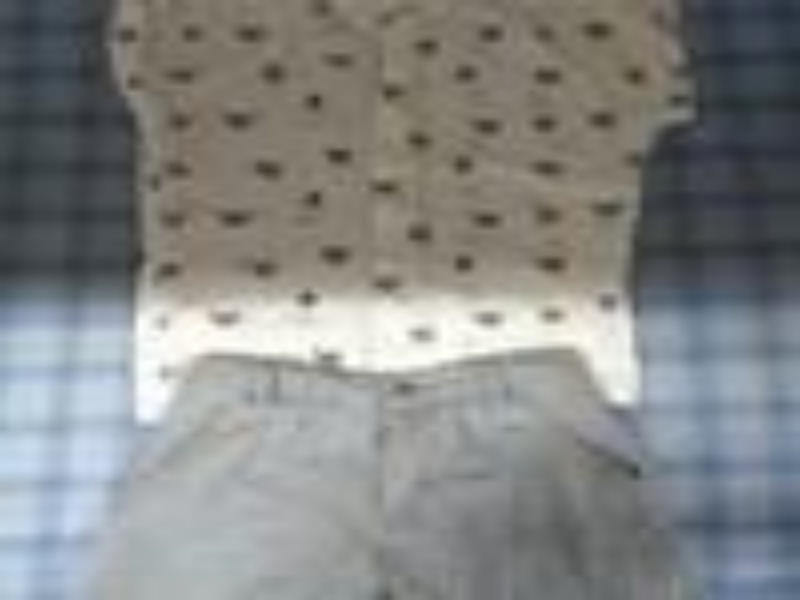short_sleeved_shirt: (96, 0, 704, 438)
shorts: (72, 336, 720, 594)
